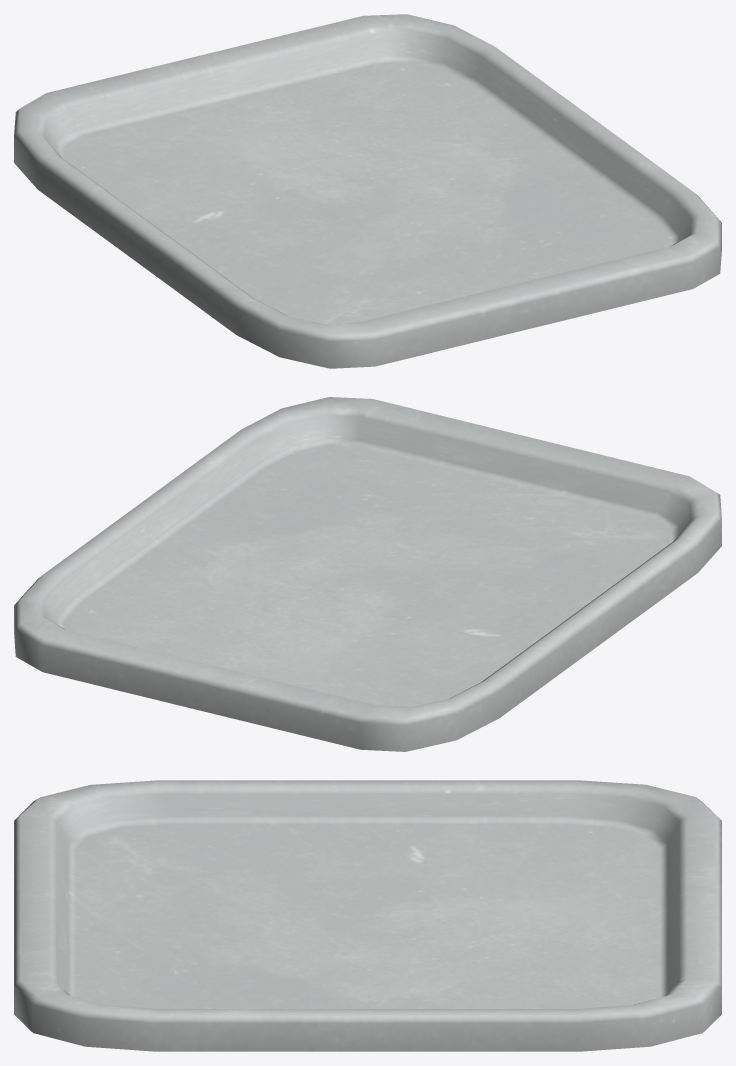
Rendered from SM_Tray.fbx.
3 renders of one model, top to bottom at view 1: azimuth 30°, elevation 25°; view 2: azimuth 150°, elevation 25°; view 3: azimuth 270°, elevation 25°, orthographic. The views are drawn at different scales.
Visible parts, largest first — view 1: SM_Tray_LOD0; view 2: SM_Tray_LOD0; view 3: SM_Tray_LOD0.
Part boxes in pixels (left/top/right/bottom): SM_Tray_LOD0: left=14, top=14, right=721, bottom=368; SM_Tray_LOD0: left=14, top=397, right=721, bottom=751; SM_Tray_LOD0: left=14, top=780, right=721, bottom=1051.
Size of the model in its own units: 19.77 by 24.66 by 1.32.
Materials: 1 (1 with a texture image).
